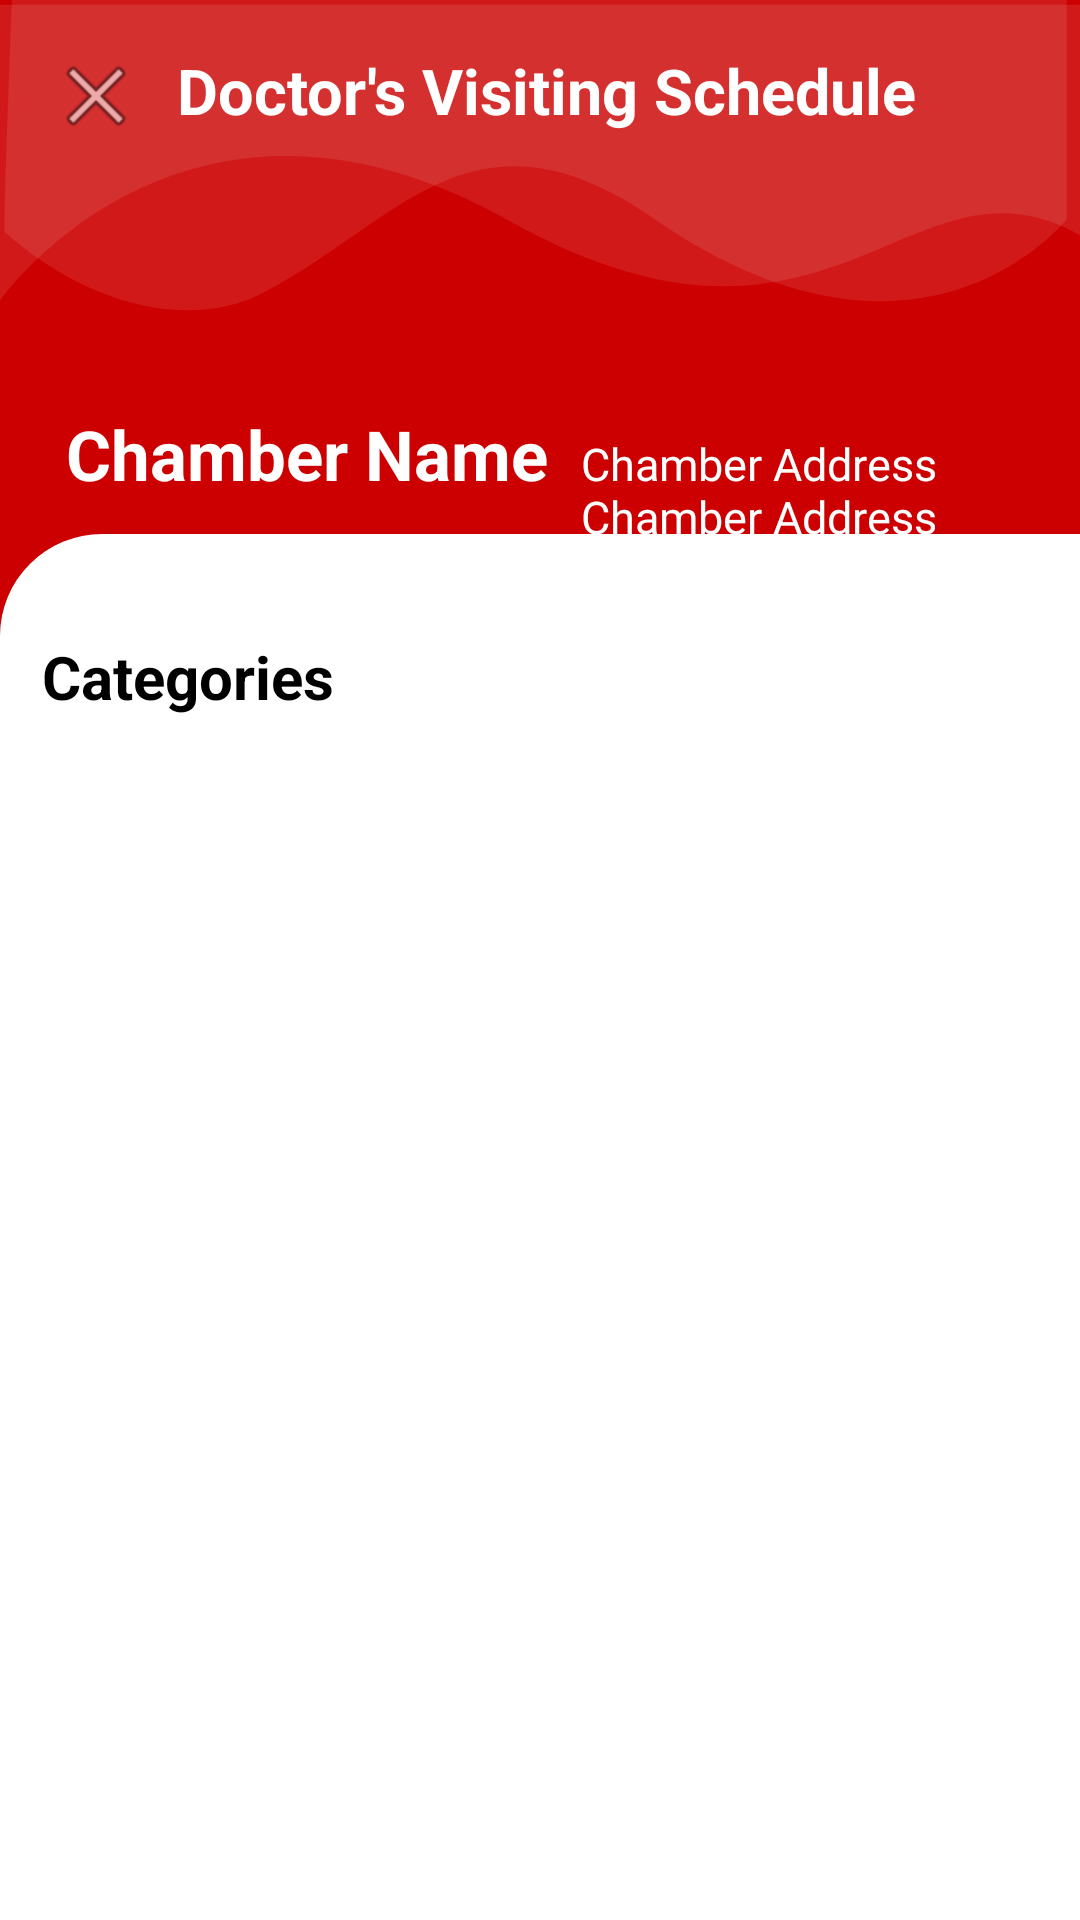

Screen size 1080 x 1920. Icon name, then its center in pixels as point (x, y):
close clear cancel: point (96, 96)
